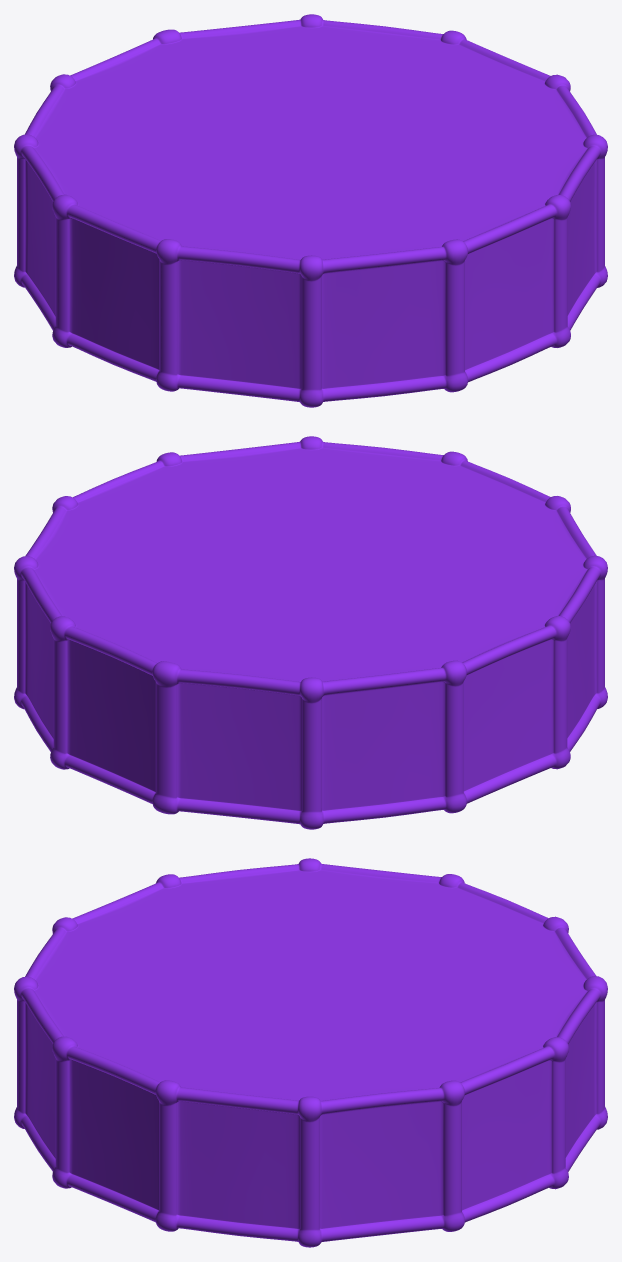
File: PrismaDodecagonal.gltf
The picture shows the model from 3 angles, top to bottom: view 1: azimuth 30°, elevation 25°; view 2: azimuth 150°, elevation 25°; view 3: azimuth 270°, elevation 25°; orthographic projection.
Parts seen in each view (by area): view 1: Prisma dodecagonal; view 2: Prisma dodecagonal; view 3: Prisma dodecagonal.
Part boxes in pixels (x1,y1,x2,y2): Prisma dodecagonal: [14, 14, 607, 407]; Prisma dodecagonal: [14, 436, 607, 829]; Prisma dodecagonal: [14, 858, 607, 1247].
Size of the model in its own units: 10.39 by 2.89 by 10.49.
